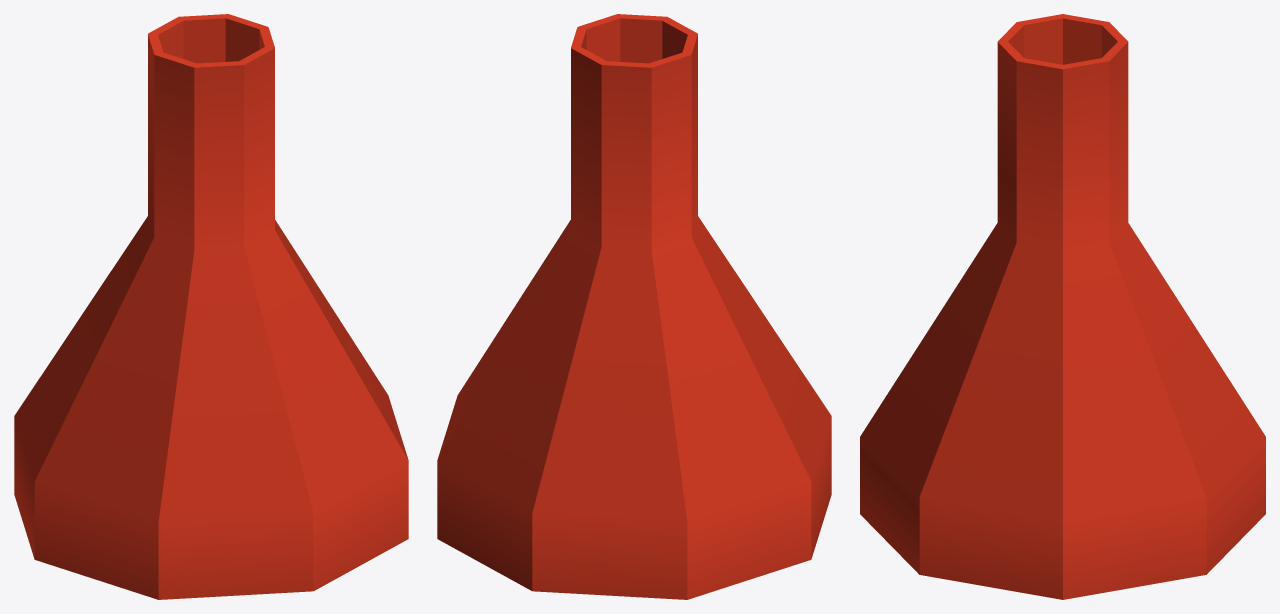
Rendered from Chemical bottle.fbx.
3 views of the same model, side by side, from view 1: azimuth 30°, elevation 25°; view 2: azimuth 150°, elevation 25°; view 3: azimuth 270°, elevation 25° (orthographic).
Visible parts, largest first — view 1: flask; view 2: flask; view 3: flask.
Part boxes in pixels (x1,y1,x2,y2): flask: (14, 14, 408, 599); flask: (437, 14, 831, 599); flask: (860, 14, 1265, 599).
Bounding box in the file's own units: 77.97 × 100 × 77.97.
